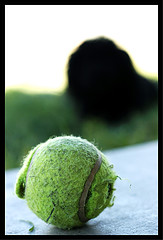tennis ball: (14, 134, 124, 229)
